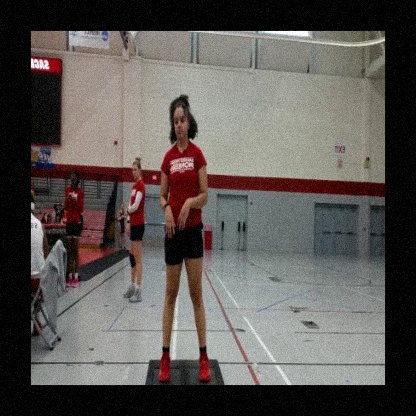lateral_flexion_normal: (155, 92, 212, 385)
stance_width_broad: (155, 138, 213, 385)
